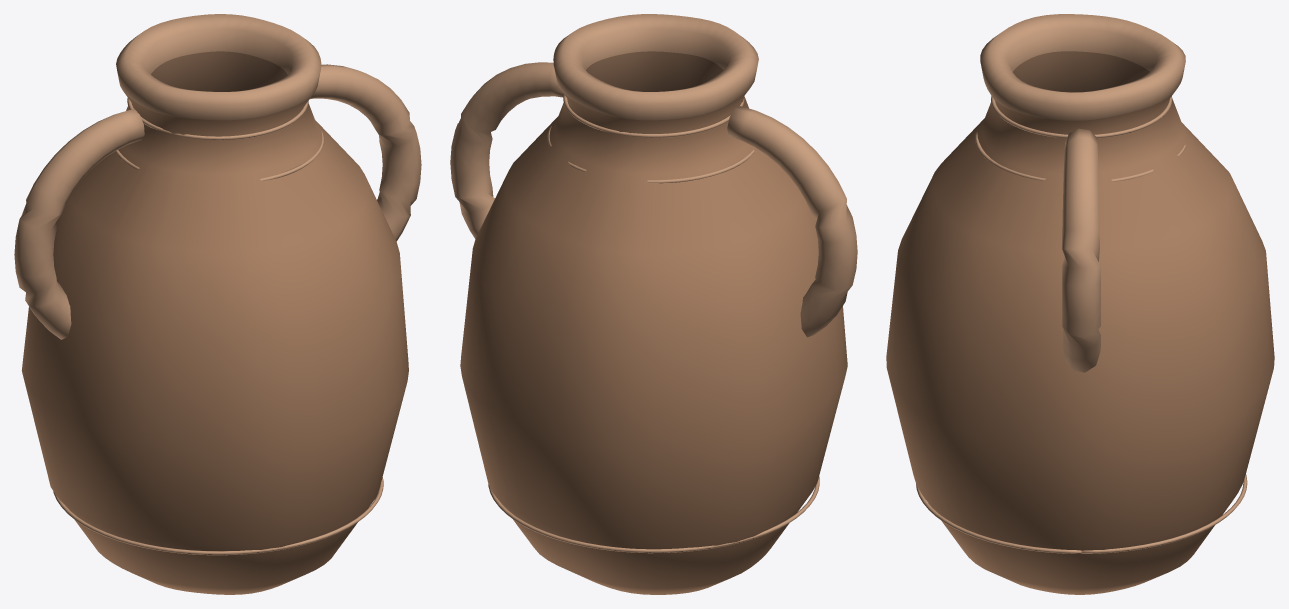
Rendered from SM_Jar.fbx.
3 views of the same model, side by side, from view 1: azimuth 30°, elevation 25°; view 2: azimuth 150°, elevation 25°; view 3: azimuth 270°, elevation 25° (orthographic).
Parts seen in each view (by area): view 1: SM_Jar; view 2: SM_Jar; view 3: SM_Jar.
Part boxes in pixels (x1=…): SM_Jar: x1=14, y1=14, x2=421, y2=594; SM_Jar: x1=450, y1=14, x2=857, y2=594; SM_Jar: x1=886, y1=14, x2=1274, y2=594.
Bounding box in the file's own units: 58.65 × 49.14 × 70.9.
